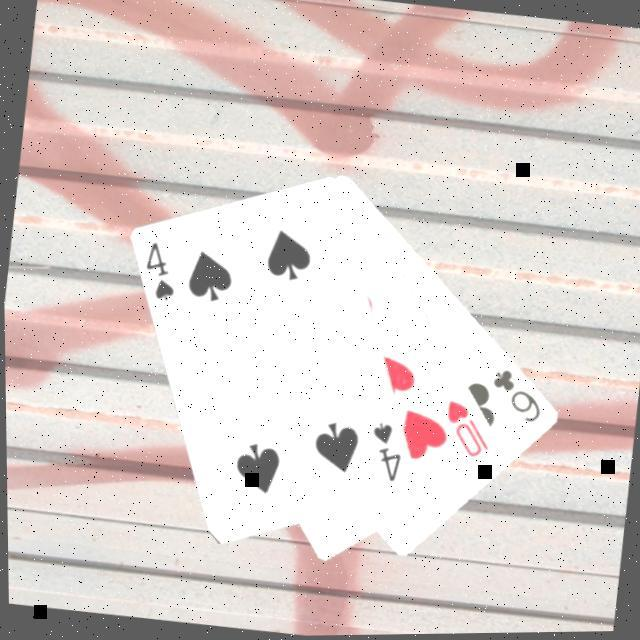10H: (436, 397, 496, 464)
4S: (360, 419, 407, 488), (135, 238, 182, 306)
6C: (482, 365, 547, 429)
